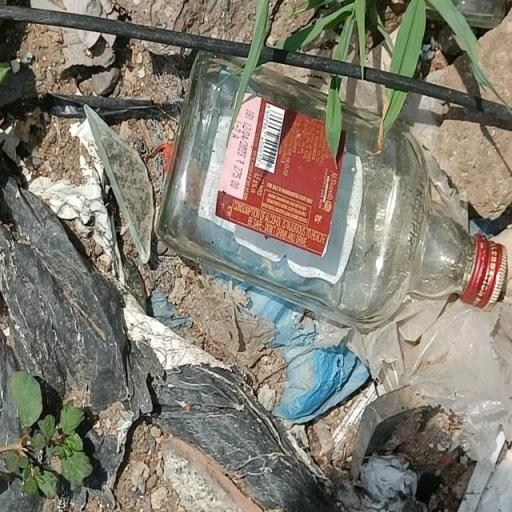glass: (140, 32, 512, 344)
